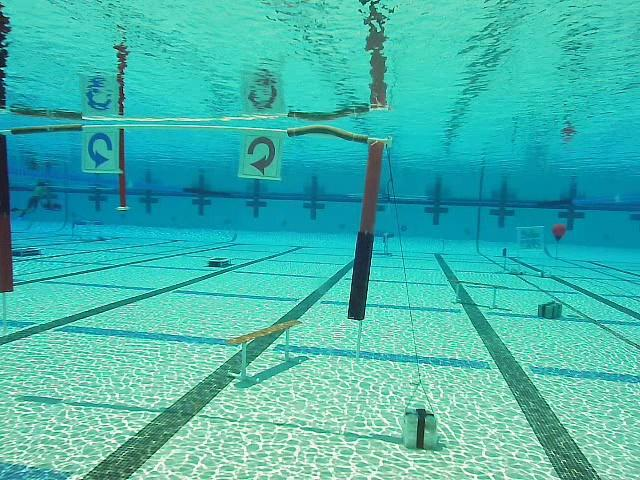buoy: (552, 224, 567, 241)
dropper: (10, 243, 48, 259), (206, 254, 234, 272)
gate_blue: (81, 127, 123, 174)
gate_leg_r: (344, 138, 384, 319)
gate_red: (238, 132, 283, 180)
torpedo: (517, 227, 545, 252)
